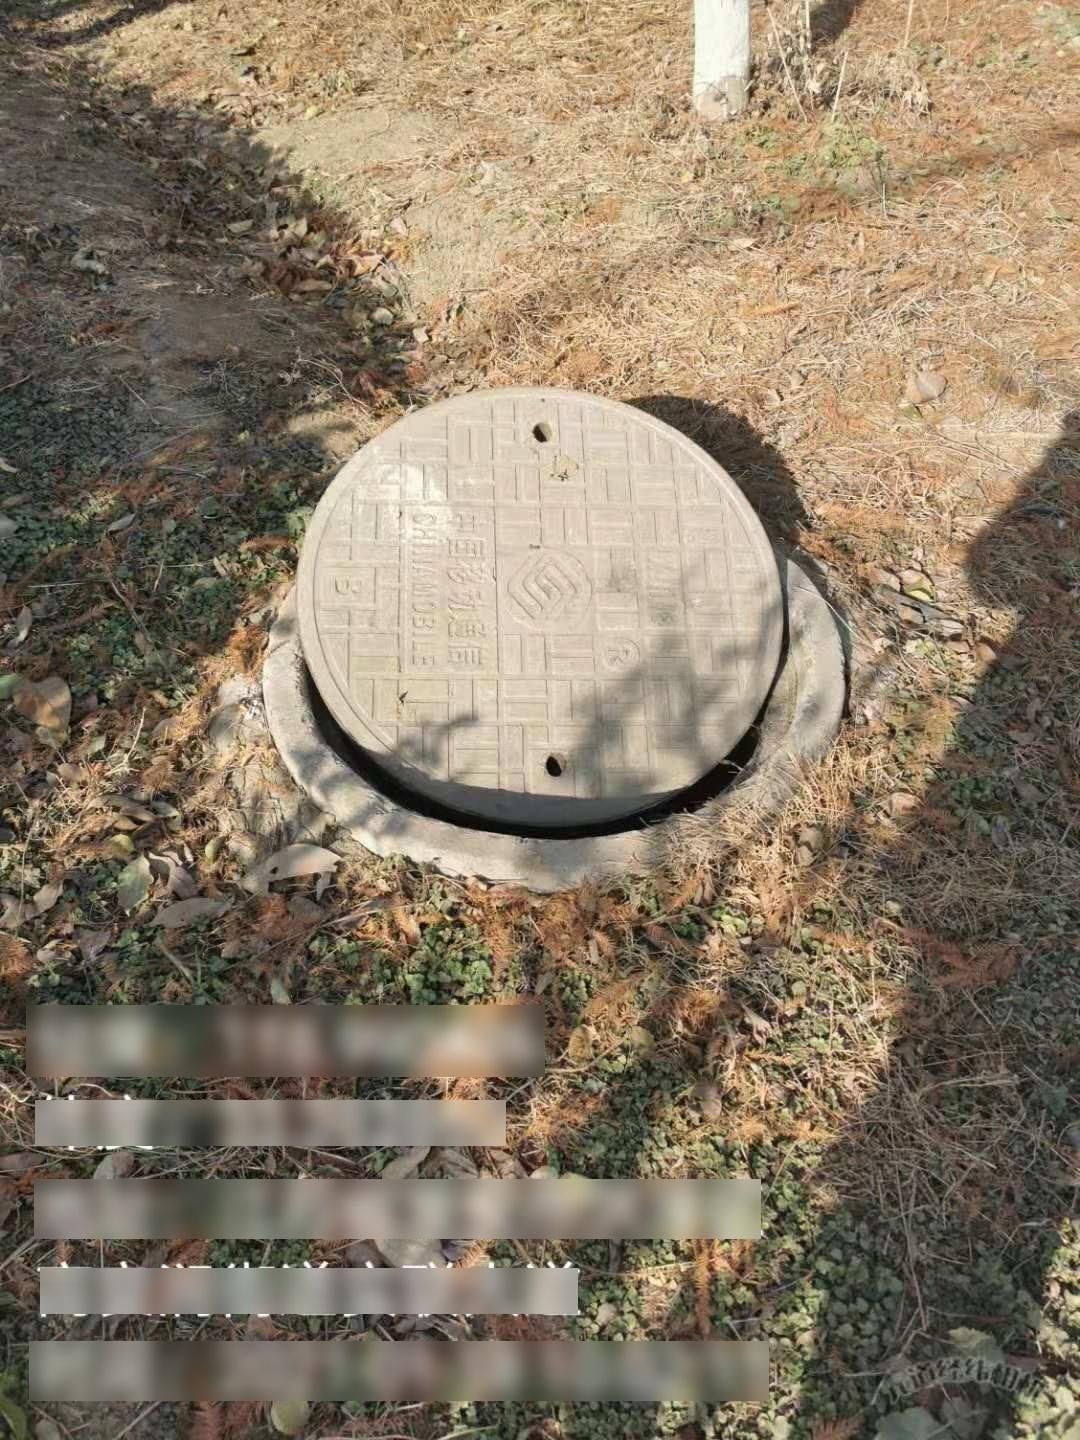wellcover: (272, 386, 817, 844)
